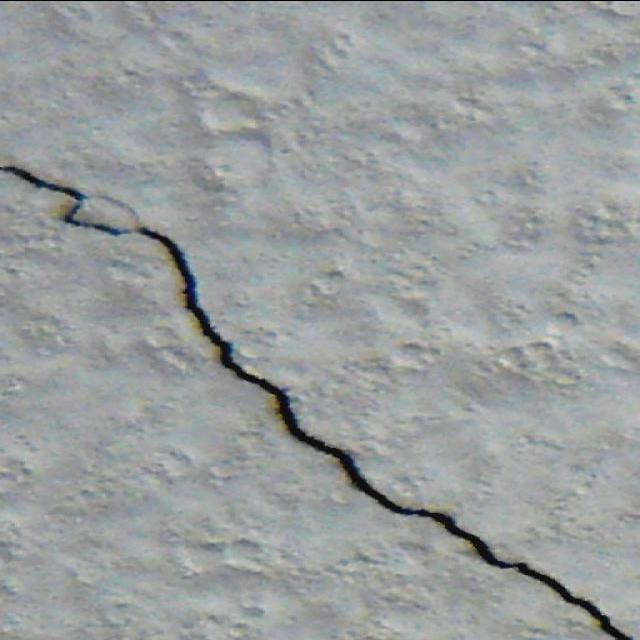crack: (1, 162, 634, 638)
